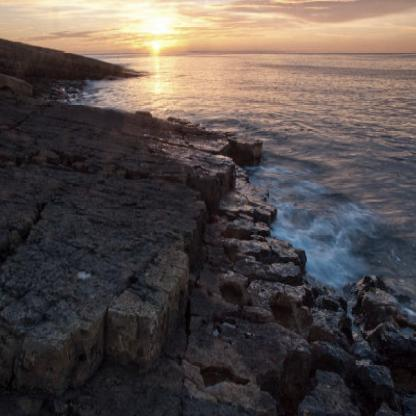Sedimentary_Sandstone: (5, 193, 106, 396), (110, 228, 193, 354)
